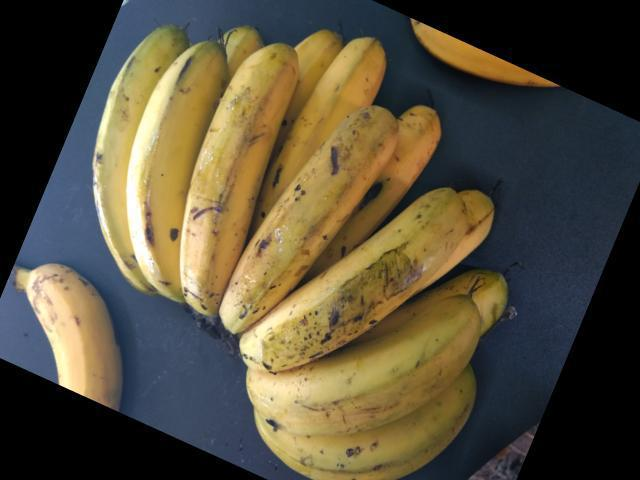ripe: (199, 97, 412, 349), (223, 169, 489, 367), (170, 38, 305, 313), (239, 296, 488, 417), (87, 19, 185, 308), (129, 41, 217, 317), (244, 381, 487, 470), (15, 261, 119, 452)
